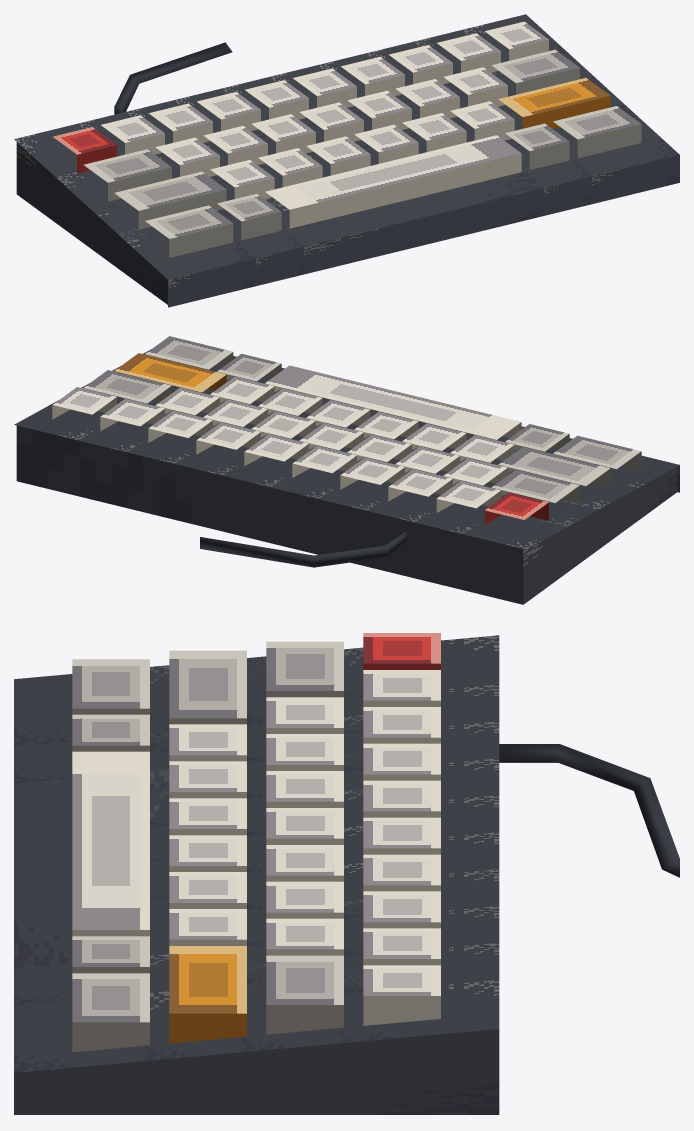
Rendered from home-keyboard.glb.
3 views of the same model, one above another, from view 1: azimuth 30°, elevation 25°; view 2: azimuth 150°, elevation 25°; view 3: azimuth 270°, elevation 25° (orthographic). The views are drawn at different scales.
Parts seen in each view (by area): view 1: home.keyboard; view 2: home.keyboard; view 3: home.keyboard.
Boxes of the visible parts, x1,y1,x2,y2 form: home.keyboard: [14, 14, 679, 307]; home.keyboard: [14, 336, 679, 604]; home.keyboard: [14, 633, 679, 1114].
Size of the model in its own units: 1.62 by 0.2023 by 1.16.
Materials: 10 (6 with a texture image).
